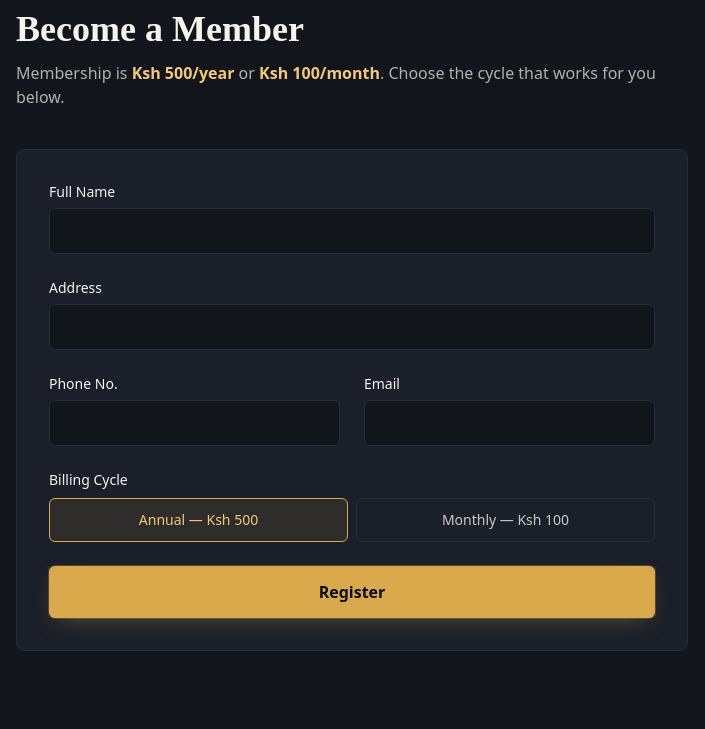
MembershipRegistrationForm › blocks submission and shows errors when fields are empty
Step 1. Click the button "Register" → (352, 592), box [49,566,655,618]
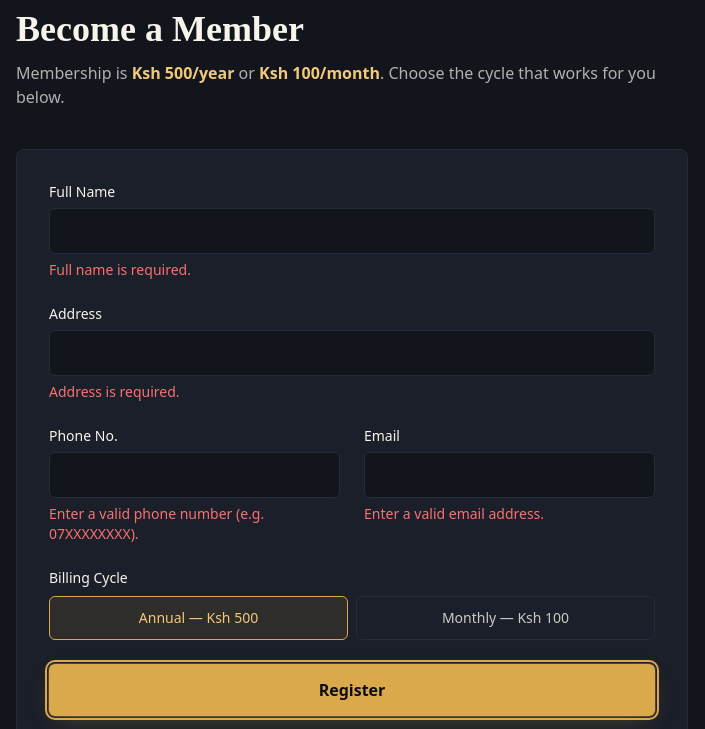
Expected: the text "Full name is required." is shown, [49,260,191,279]
Expected: the text "Address is required." is shown, [49,382,180,401]
Expected: the text "Enter a valid phone number (e.g. 07XXXXXXXX)." is shown, [49,504,264,543]
